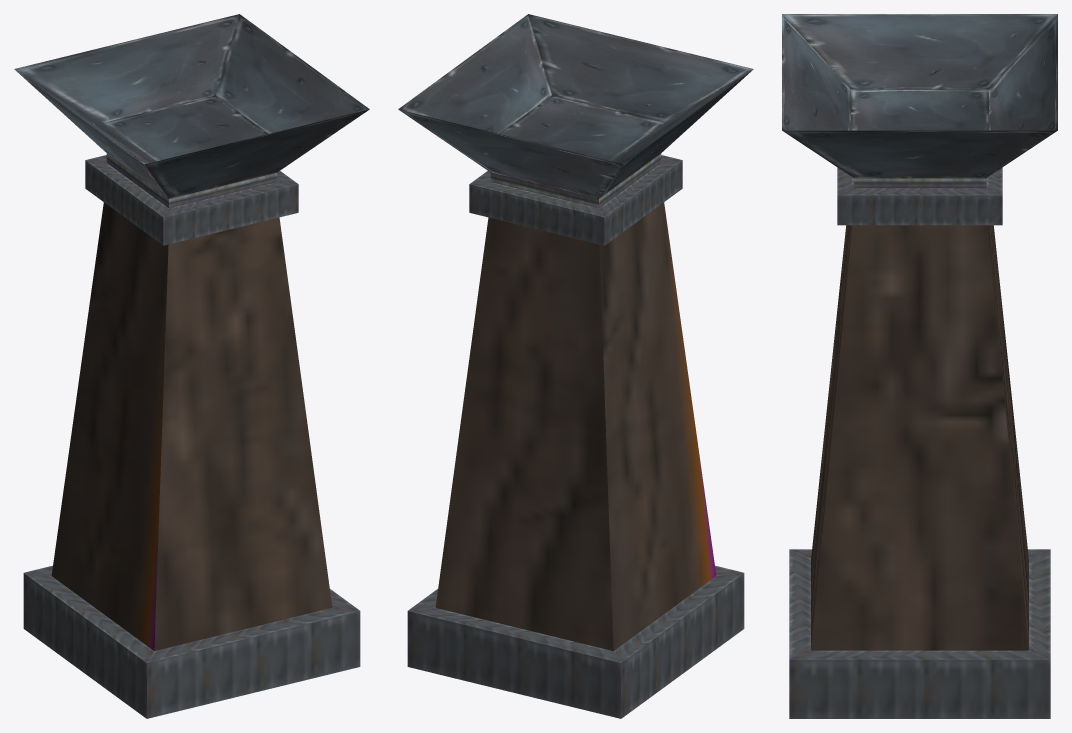
File: Antorcha.fbx
The picture shows the model from 3 angles, left to right: view 1: azimuth 30°, elevation 25°; view 2: azimuth 150°, elevation 25°; view 3: azimuth 270°, elevation 25°; orthographic projection. The views are drawn at different scales.
Parts seen in each view (by area): view 1: pCube95; view 2: pCube95; view 3: pCube95.
Boxes of the visible parts, box(x1,y1,x2,y2) form: pCube95: box(14, 14, 369, 718); pCube95: box(398, 14, 753, 718); pCube95: box(782, 14, 1057, 718).
Size of the model in its own units: 264 by 646 by 264.
